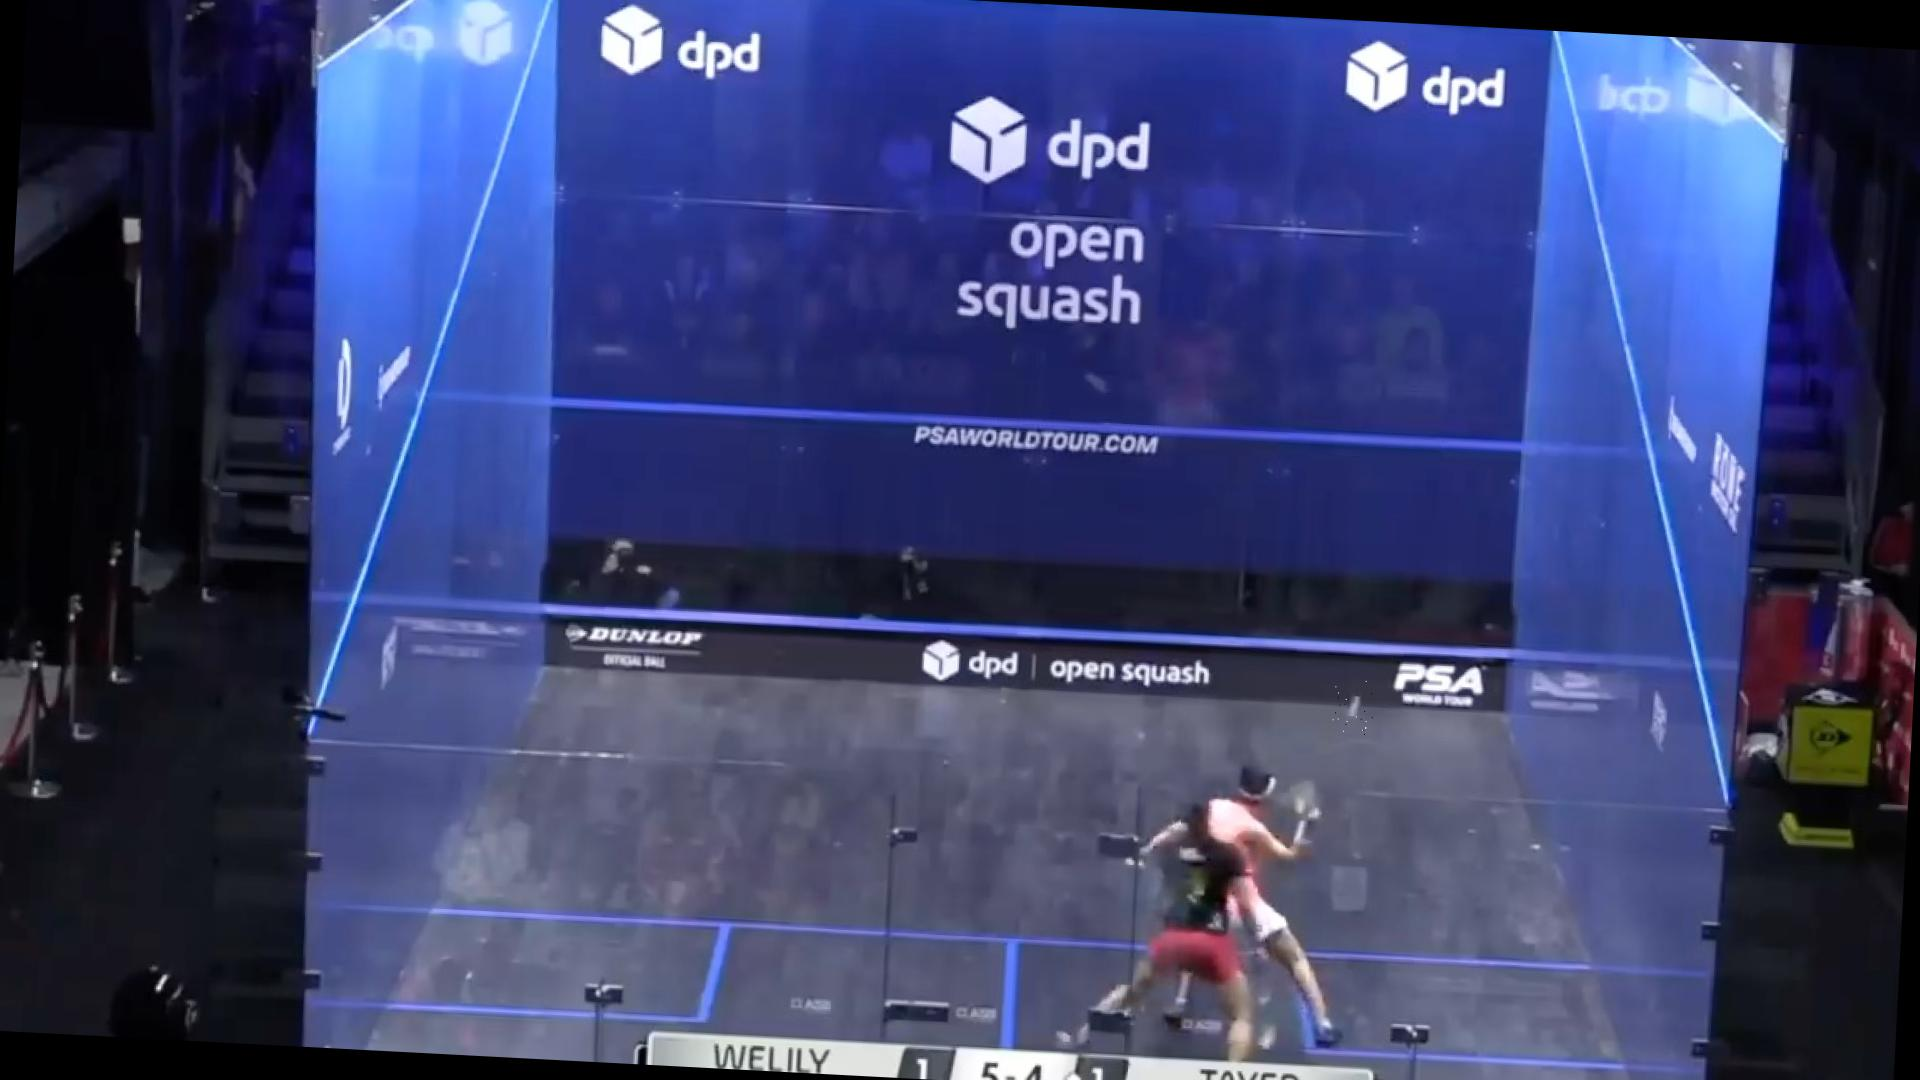Squash-Ball: (1328, 678, 1378, 736)
